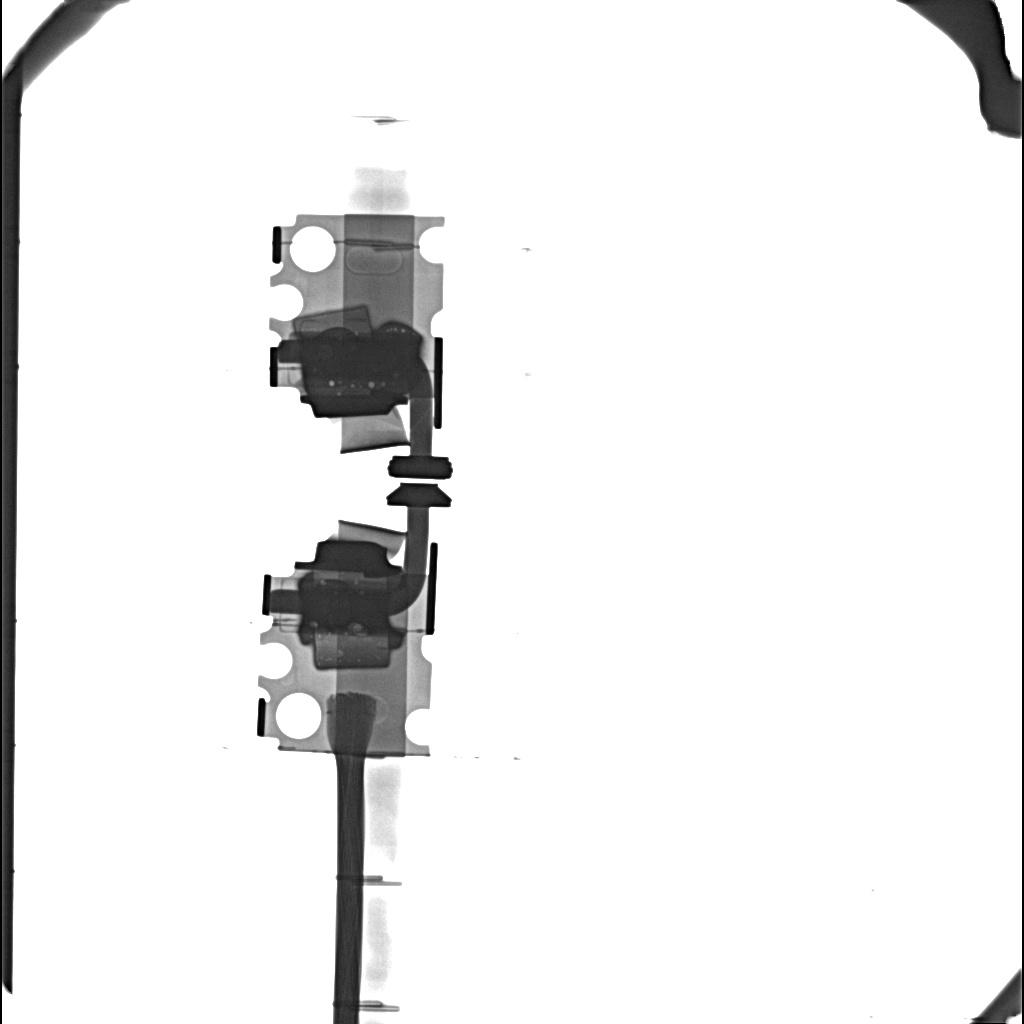defect: (299, 335, 421, 382), (303, 589, 387, 625), (312, 632, 391, 669), (292, 305, 374, 337)
